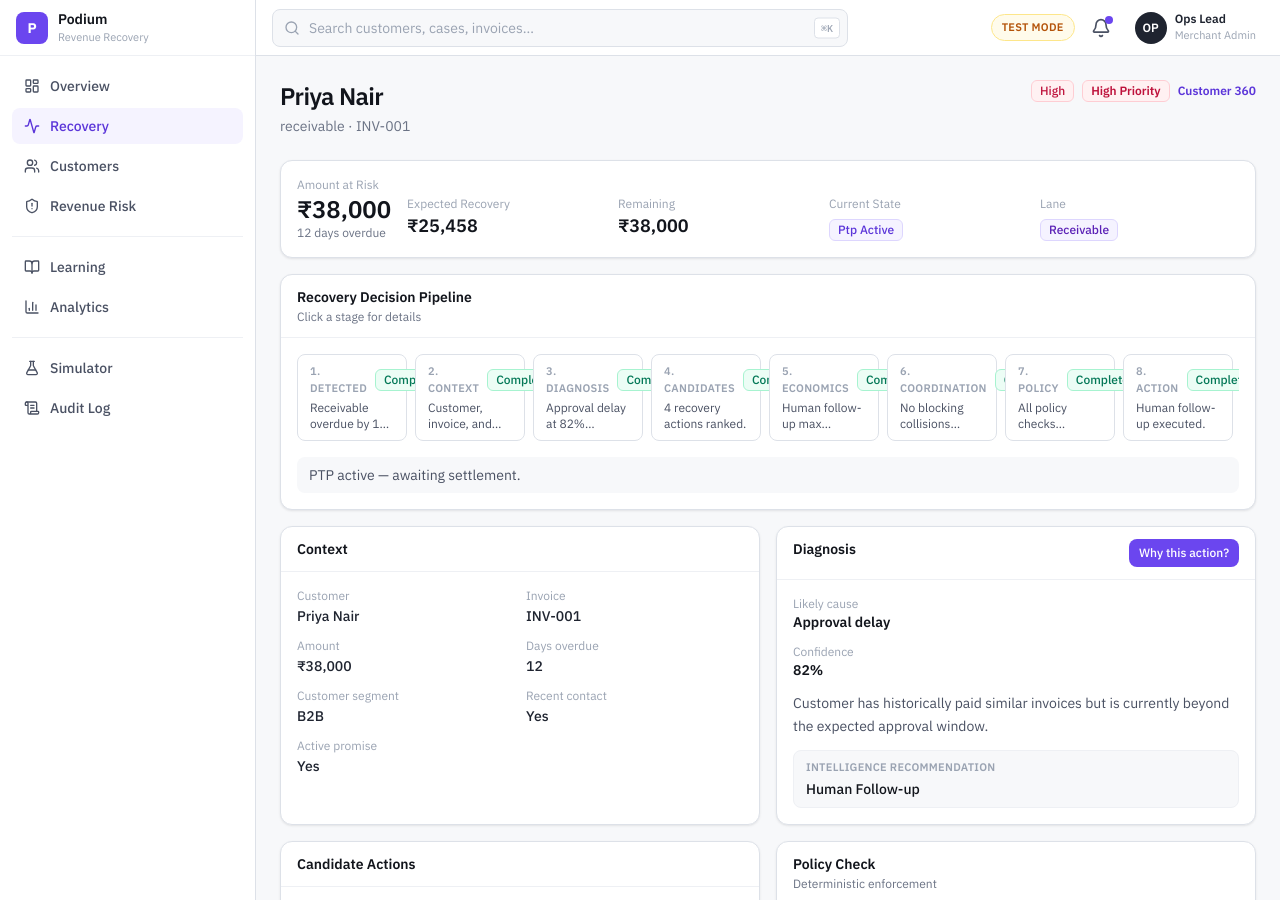
Test: Podium frontend › opens case detail and Why Action drawer
The width and height of the screenshot is (1280, 900).
Expected: the text "INV-001" is shown, [526,607,581,625]
Click the button "Why this action?" at (1184,553), box [1129,539,1239,567]
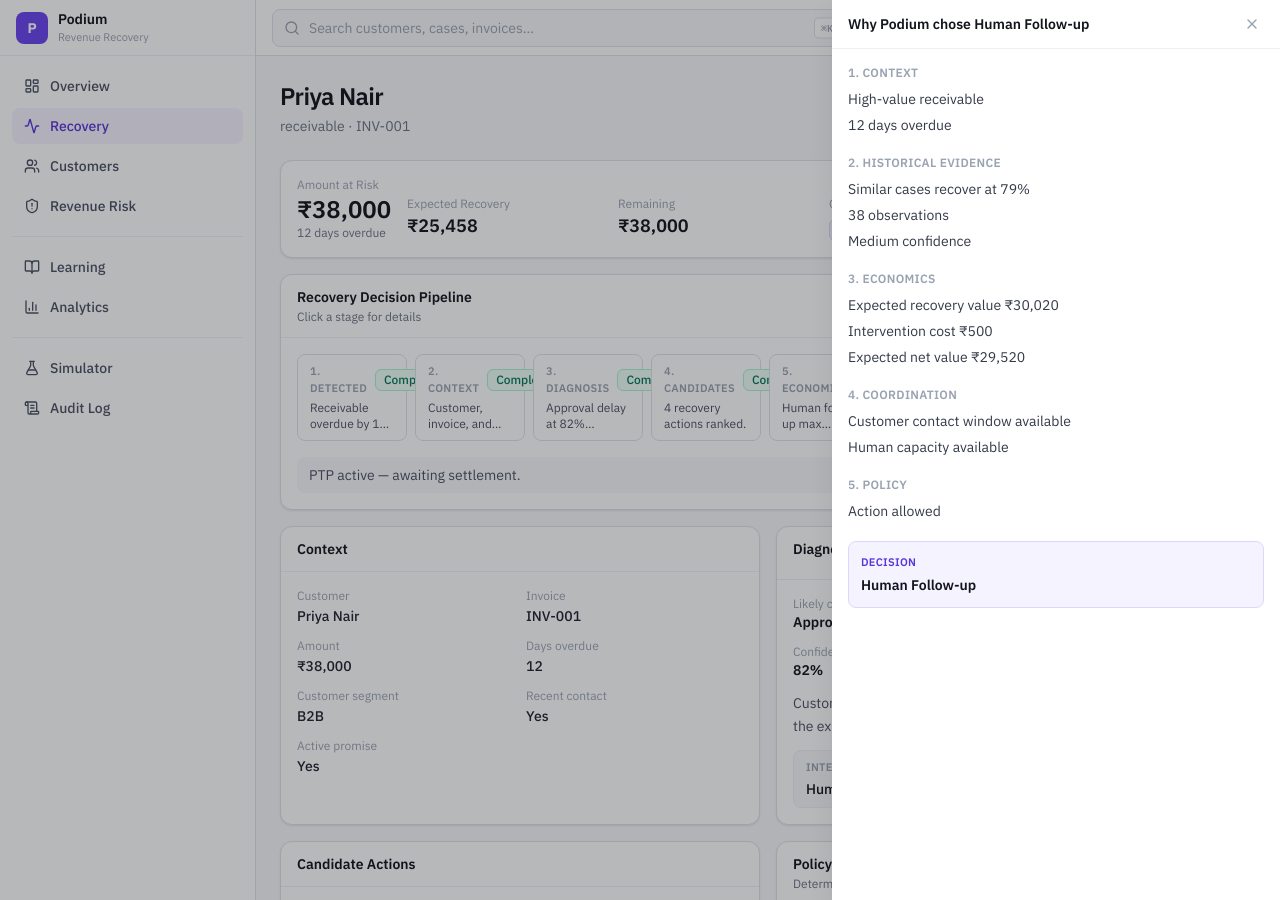
Expected: the heading "Why Podium chose Human Follow-up" is shown, [848,14,1089,34]
